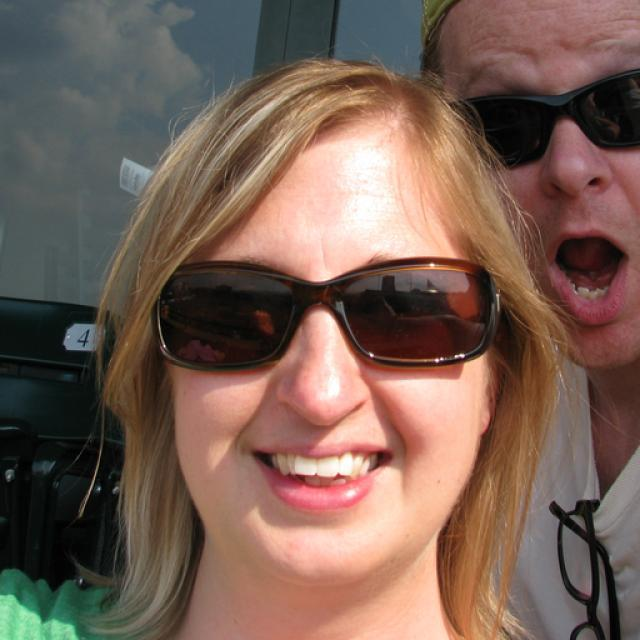happy: (168, 154, 486, 578), (435, 0, 640, 365)
